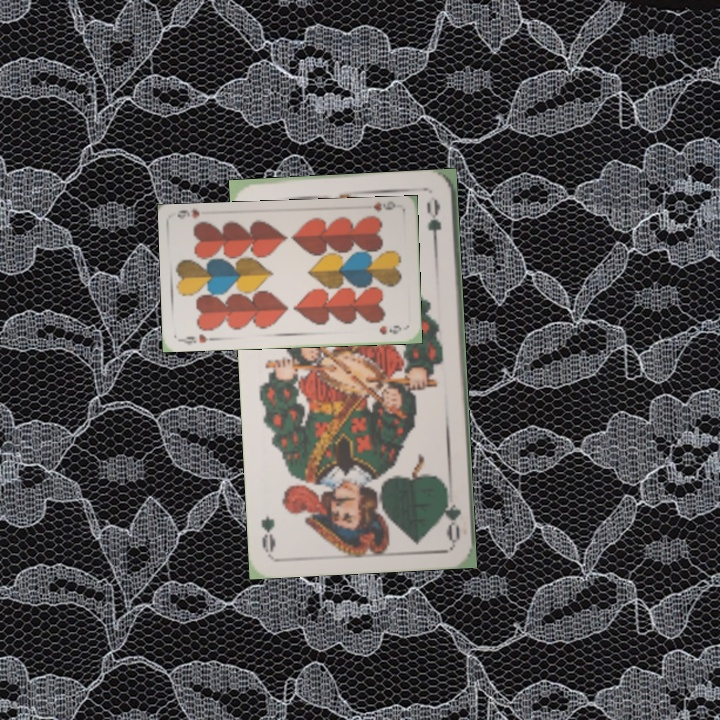GO: (439, 484, 464, 543)
H9: (177, 330, 217, 347), (369, 199, 398, 215)
